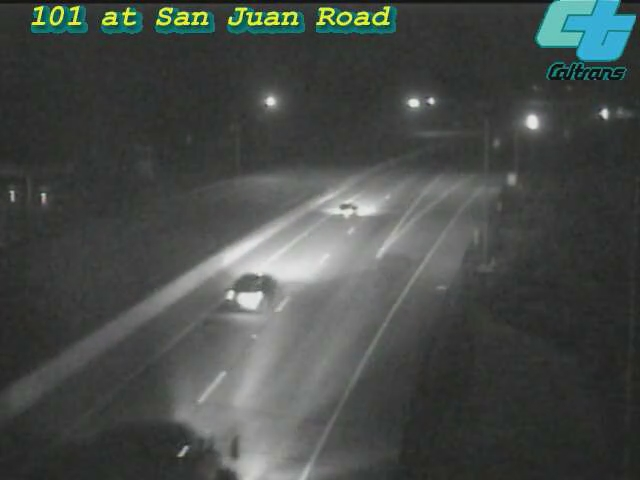vehicle: (97, 408, 207, 480), (307, 171, 387, 251), (216, 245, 296, 325), (506, 97, 556, 147), (581, 89, 631, 139), (599, 89, 640, 139)
